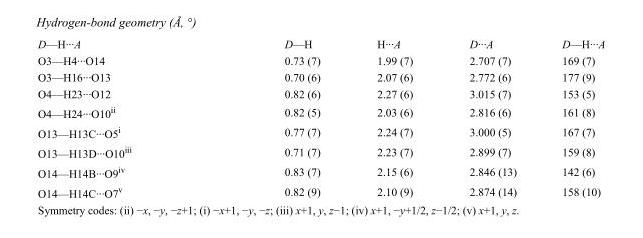table: (37, 37, 604, 199)
table column: (37, 37, 207, 199), (207, 37, 347, 199), (440, 37, 538, 199), (347, 37, 440, 199), (538, 37, 604, 199)
table row: (37, 101, 604, 121), (37, 121, 604, 141), (37, 141, 604, 161), (37, 161, 604, 181), (37, 181, 604, 199), (37, 51, 604, 68), (37, 68, 604, 85), (37, 85, 604, 101), (37, 37, 604, 51)
